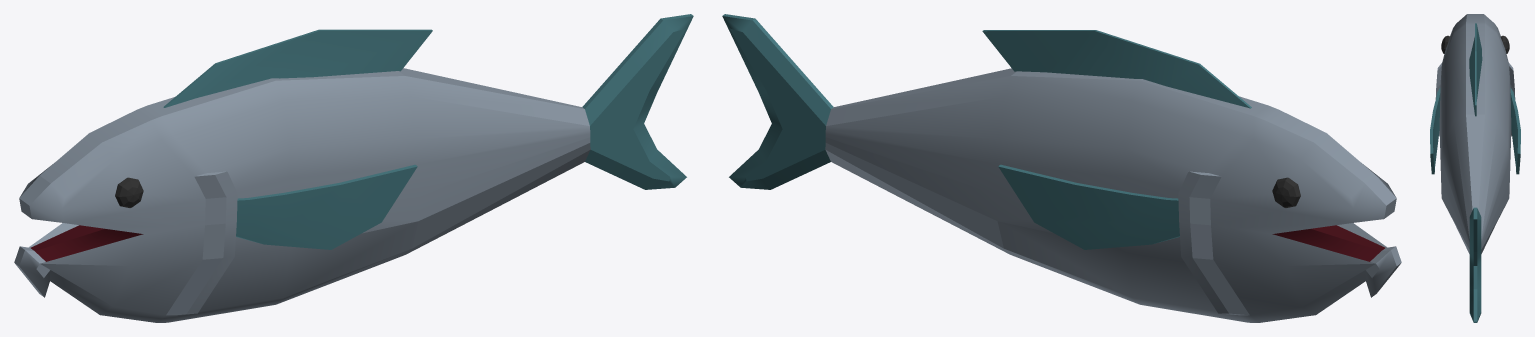
Rendered from Fish.fbx.
3 renders of one model, left to right at view 1: azimuth 30°, elevation 25°; view 2: azimuth 150°, elevation 25°; view 3: azimuth 270°, elevation 25°, orthographic. The views are drawn at different scales.
Parts seen in each view (by area): view 1: Fish; view 2: Fish; view 3: Fish.
Part boxes in pixels (x1,y1,x2,y2): Fish: (14,14,693,322); Fish: (722,14,1401,322); Fish: (1430,14,1520,322).
Bounding box in the file's own units: 26.98 × 9.78 × 4.79.
